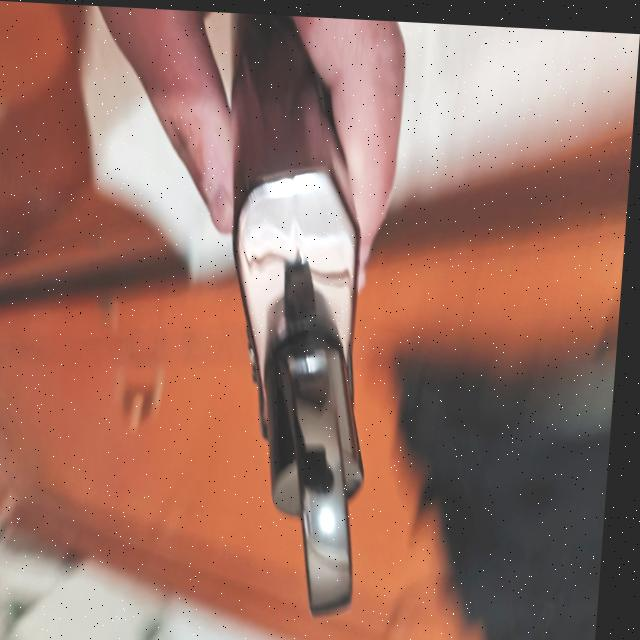Afnan: (202, 11, 400, 615)
